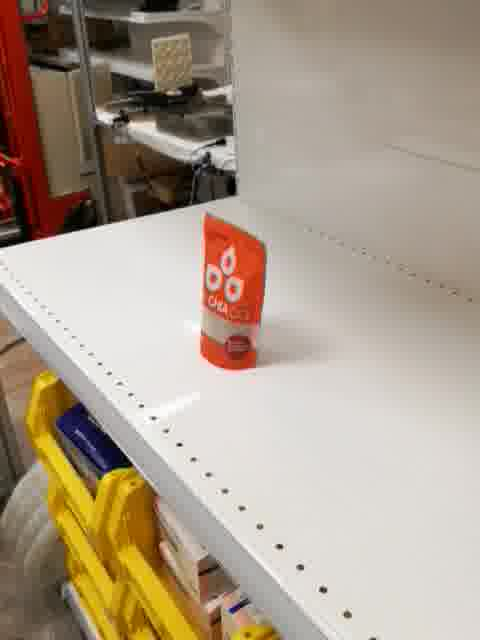whitechia: (202, 210, 270, 375)
